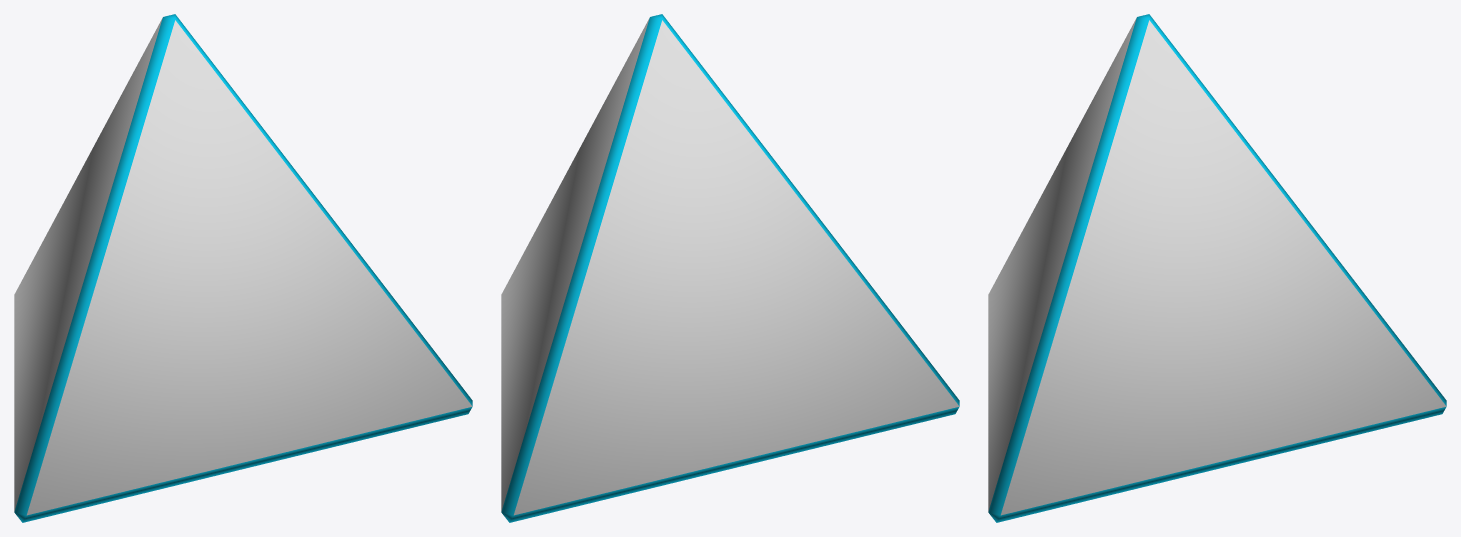
The model's file is reveledprism.fbx.
3 renders of one model, left to right at view 1: azimuth 30°, elevation 25°; view 2: azimuth 150°, elevation 25°; view 3: azimuth 270°, elevation 25°, orthographic.
Parts seen in each view (by area): view 1: 锥体; view 2: 锥体; view 3: 锥体.
Boxes of the visible parts, box(x1,y1,x2,y2) form: 锥体: box(14, 14, 472, 522); 锥体: box(501, 14, 959, 522); 锥体: box(988, 14, 1446, 522).
Size of the model in its own units: 380 by 314 by 329.
